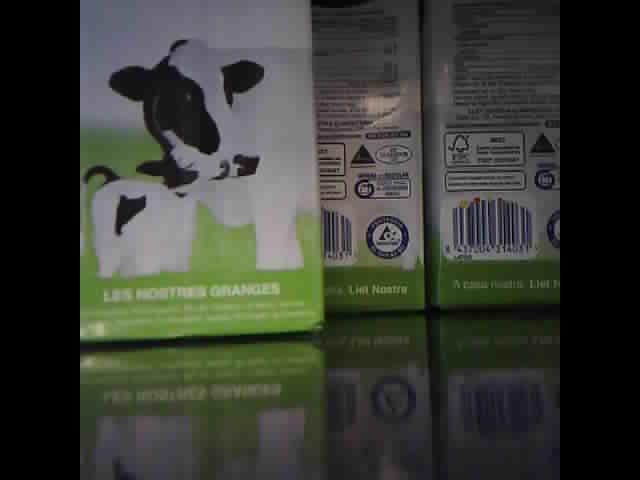leche: (79, 4, 310, 339), (430, 5, 560, 308), (316, 4, 423, 319)
